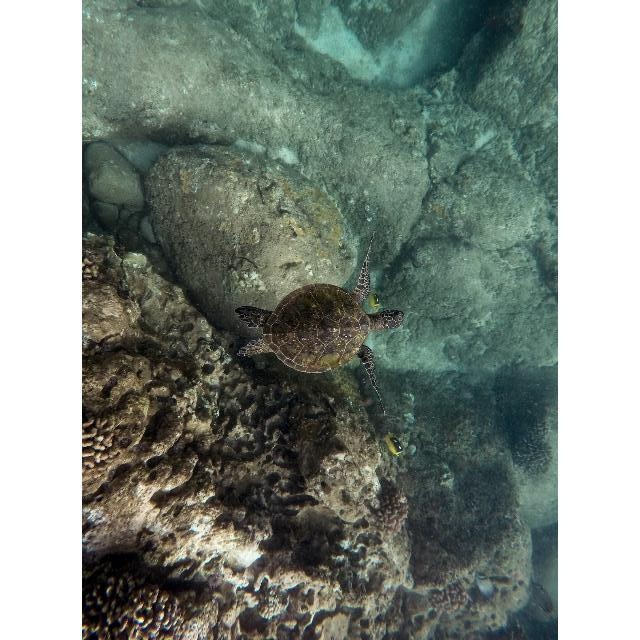turtle: (237, 233, 404, 417)
